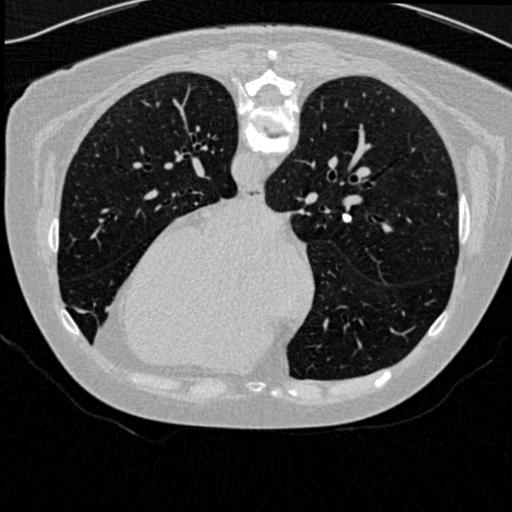nodule: (342, 213, 355, 226)
